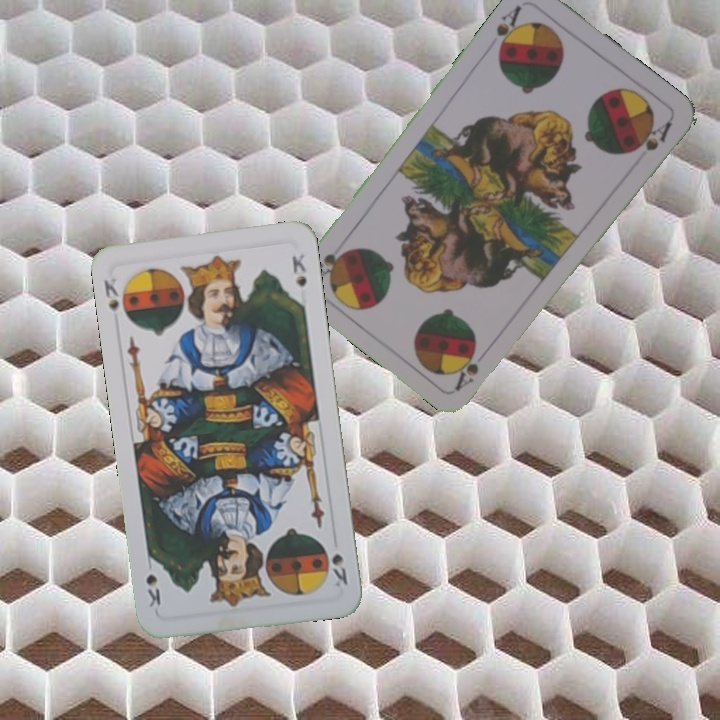SA: (492, 1, 526, 57), (451, 353, 482, 393)
SK: (328, 549, 350, 590), (99, 274, 121, 314)
